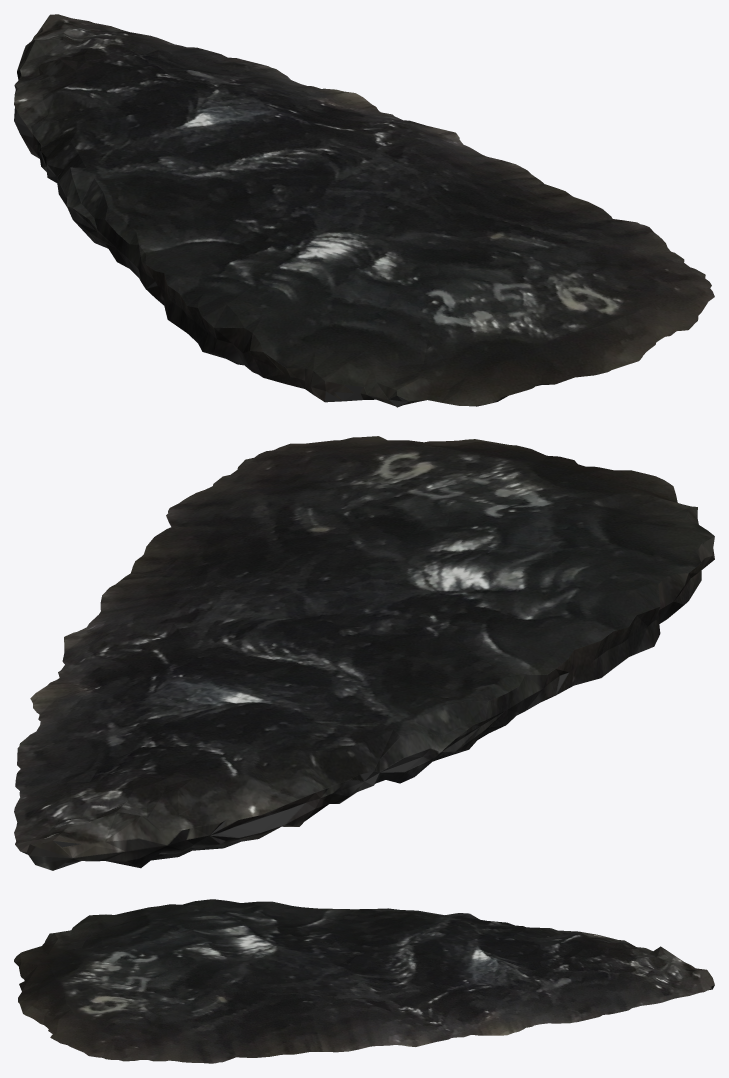
The model's file is PuntaFlecha1.gltf.
The picture shows the model from 3 angles, top to bottom: view 1: azimuth 30°, elevation 25°; view 2: azimuth 150°, elevation 25°; view 3: azimuth 270°, elevation 25°; orthographic projection. The views are drawn at different scales.
Visible parts, largest first — view 1: TexturedMesh.001; view 2: TexturedMesh.001; view 3: TexturedMesh.001.
Boxes of the visible parts, x1=… form: TexturedMesh.001: x1=14, y1=14, x2=714, y2=407; TexturedMesh.001: x1=14, y1=436, x2=714, y2=870; TexturedMesh.001: x1=14, y1=899, x2=714, y2=1063.
Size of the model in its own units: 0.4104 by 0.0542 by 0.7981.
Materials: 1 (1 with a texture image).
